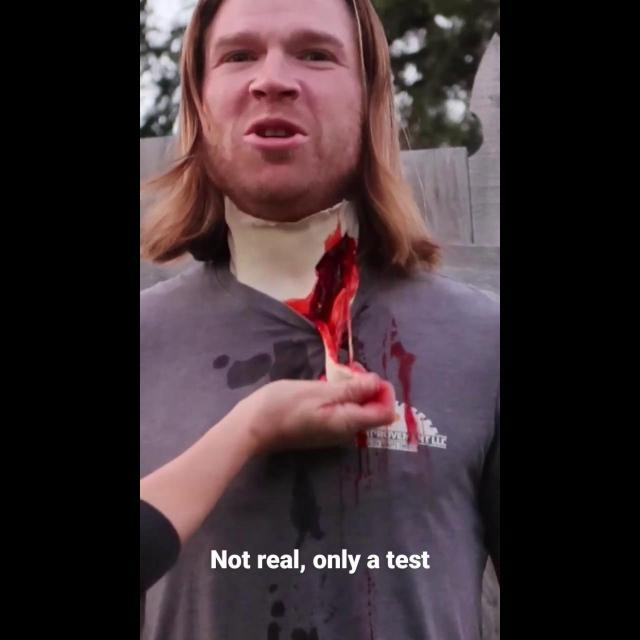blood: (285, 234, 364, 380), (390, 342, 438, 452), (354, 432, 371, 506), (366, 556, 379, 640), (351, 328, 368, 372)
